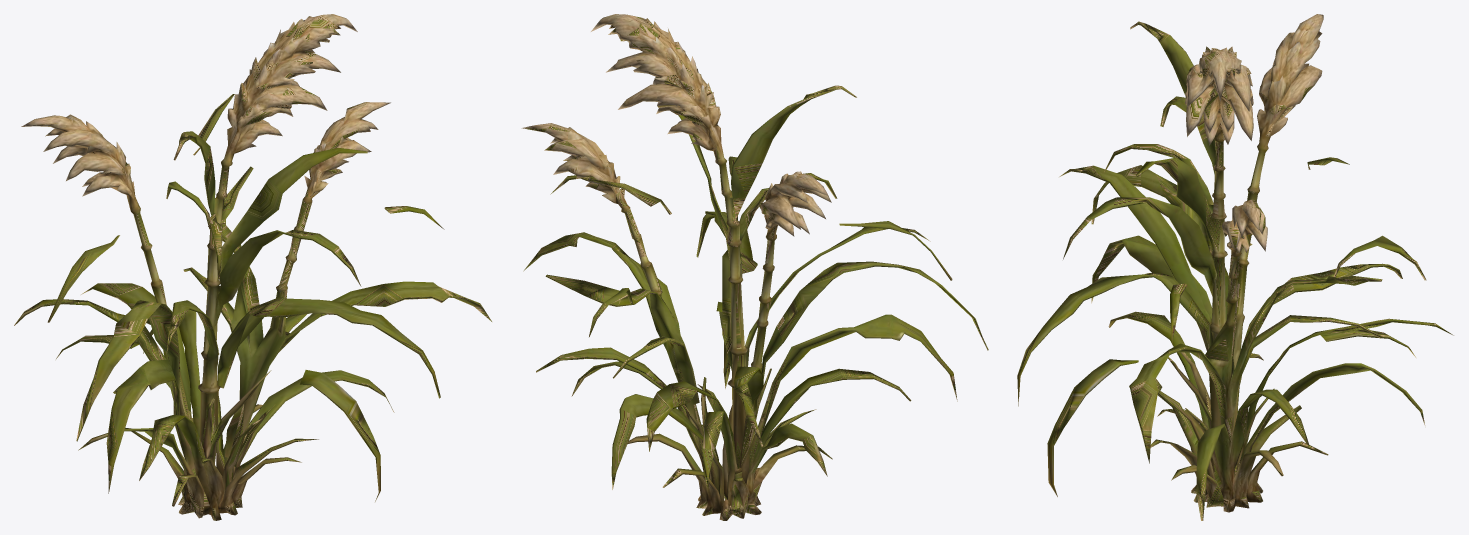
The model's file is prop_lau.74e5b1a113.glb.
3 views of the same model, side by side, from view 1: azimuth 30°, elevation 25°; view 2: azimuth 150°, elevation 25°; view 3: azimuth 270°, elevation 25° (orthographic). The views are drawn at different scales.
Parts seen in each view (by area): view 1: prop_lau; view 2: prop_lau; view 3: prop_lau.
Boxes of the visible parts, left/top/right/bottom form: prop_lau: left=14, top=14, right=491, bottom=520; prop_lau: left=521, top=14, right=988, bottom=520; prop_lau: left=1017, top=14, right=1453, bottom=520.
Size of what is drawn, in the model's own units: 1.79 by 1.8 by 1.43.
1 material, 1 textured.
